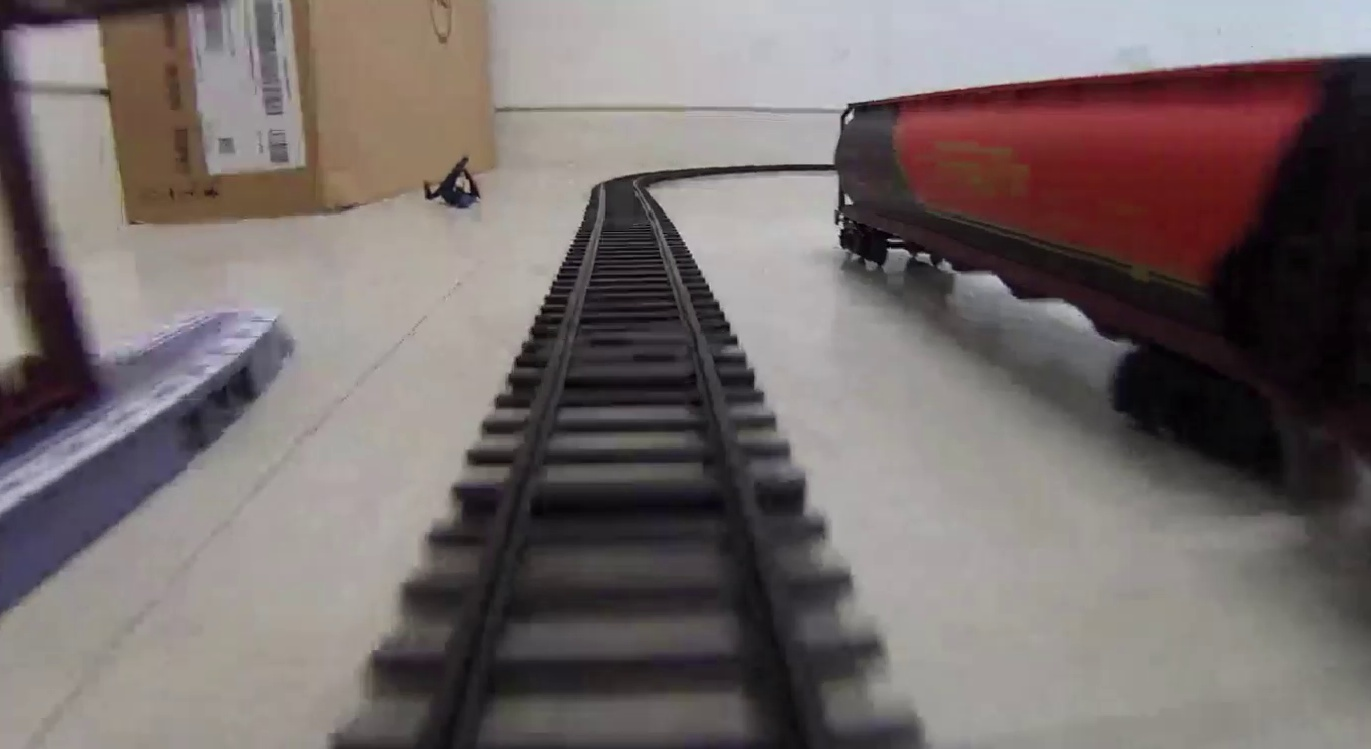people: (426, 154, 484, 211)
